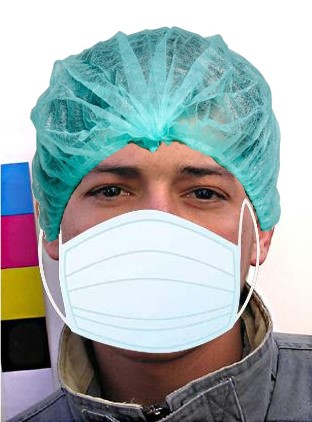with_mask_and_cap: (35, 29, 276, 354)
